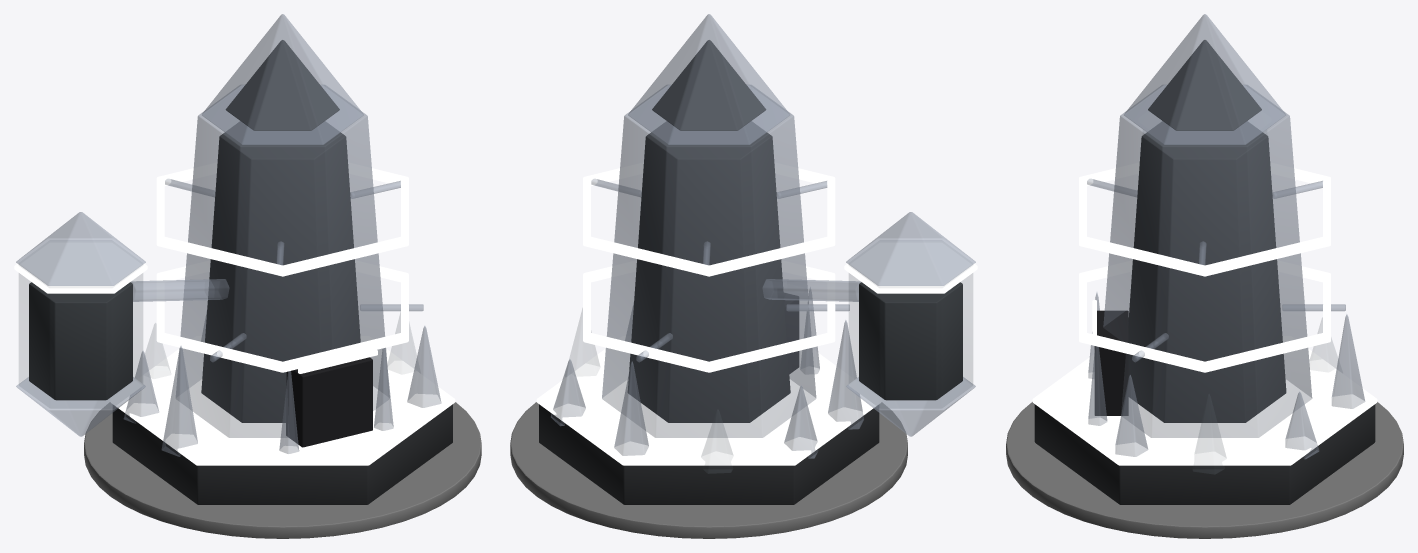
Rendered from Skin_Crystal_T1.glb.
3 views of the same model, side by side, from view 1: azimuth 30°, elevation 25°; view 2: azimuth 150°, elevation 25°; view 3: azimuth 270°, elevation 25° (orthographic).
Visible parts, largest first — view 1: Skin_Crystal_T1; view 2: Skin_Crystal_T1; view 3: Skin_Crystal_T1.
Boxes of the visible parts, x1,y1,x2,y2 form: Skin_Crystal_T1: [14, 14, 481, 538]; Skin_Crystal_T1: [510, 14, 977, 538]; Skin_Crystal_T1: [1006, 14, 1403, 538].
Bounding box in the file's own units: 4.31 × 4.28 × 3.5.
